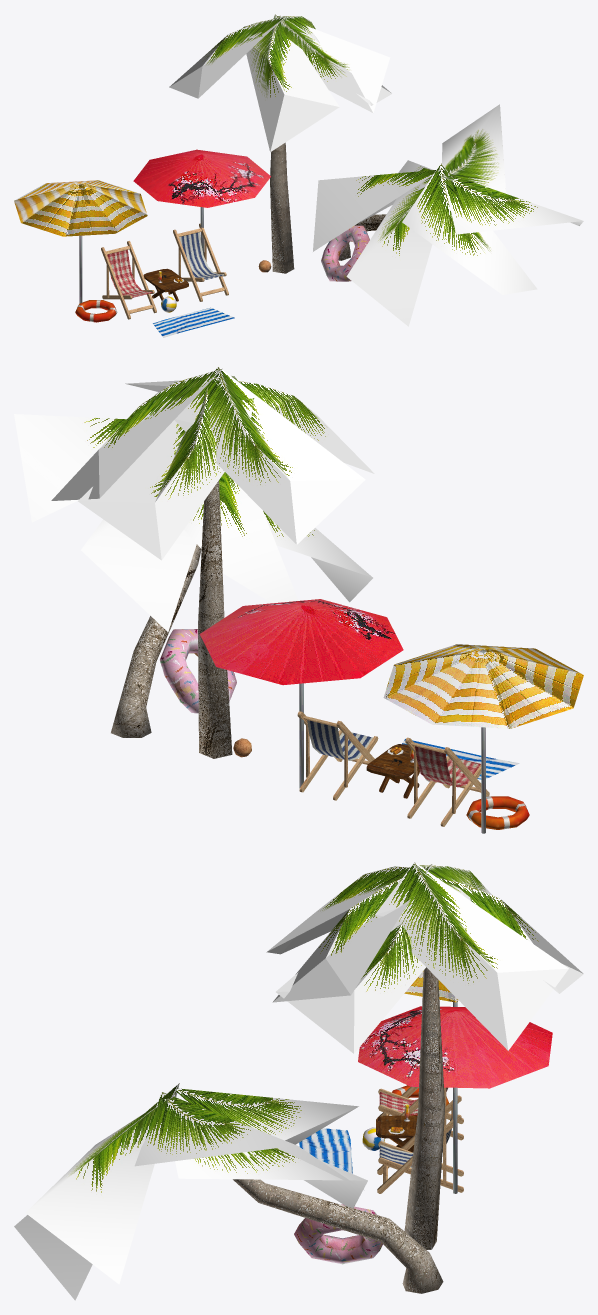
File: psx_beach_pack.glb
3 renders of one model, top to bottom at view 1: azimuth 30°, elevation 25°; view 2: azimuth 150°, elevation 25°; view 3: azimuth 270°, elevation 25°, orthographic. The views are drawn at different scales.
Parts seen in each view (by area): view 1: Palm2, Palm1, Umbrella2, Umbrella1, SunLounger1, SunLounger2, SwimmingRing, Towel, Table, Lifebuoy; view 2: Palm1, Palm2, Umbrella2, Umbrella1, SunLounger1, SunLounger2, SwimmingRing, Lifebuoy, Table, Towel; view 3: Palm1, Palm2, Umbrella1, SwimmingRing, SunLounger2, Towel, SunLounger1, Table.
Part boxes in pixels (box(x1,y1,x2,y2)): Palm2: box(313, 104, 583, 326); Palm1: box(169, 14, 391, 273); Umbrella2: box(14, 180, 147, 303); Umbrella1: box(133, 149, 270, 255); SunLounger1: box(101, 241, 156, 319); SunLounger2: box(173, 223, 228, 301); SwimmingRing: box(321, 225, 369, 281); Towel: box(153, 307, 234, 337); Table: box(143, 268, 188, 301); Lifebuoy: box(75, 300, 117, 322); Palm1: box(51, 366, 374, 758); Palm2: box(14, 392, 372, 737); Umbrella2: box(383, 644, 583, 833); Umbrella1: box(199, 599, 403, 788); SunLounger1: box(405, 737, 489, 826); SunLounger2: box(297, 711, 378, 800); SwimmingRing: box(160, 629, 236, 713); Lifebuoy: box(466, 796, 529, 829); Table: box(366, 744, 419, 798); Towel: box(402, 739, 519, 779); Palm1: box(266, 862, 583, 1249); Palm2: box(14, 1083, 443, 1300); Umbrella1: box(358, 1006, 552, 1193); SwimmingRing: box(294, 1204, 382, 1264); SunLounger2: box(377, 1095, 463, 1193); Towel: box(299, 1128, 352, 1173); SunLounger1: box(377, 1086, 463, 1140); Table: box(376, 1115, 417, 1152).
Bounding box in the file's own units: 10.47 × 5.72 × 7.75.
Materials: 15 (14 with a texture image).
